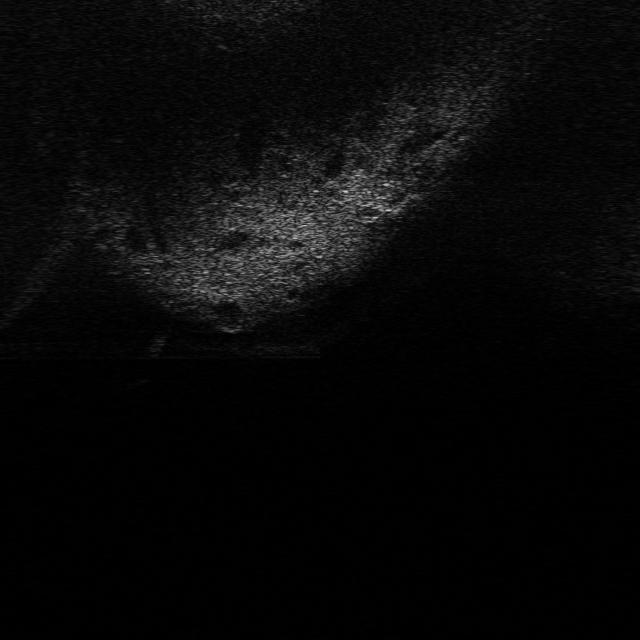cylinder: (143, 330, 173, 361)
